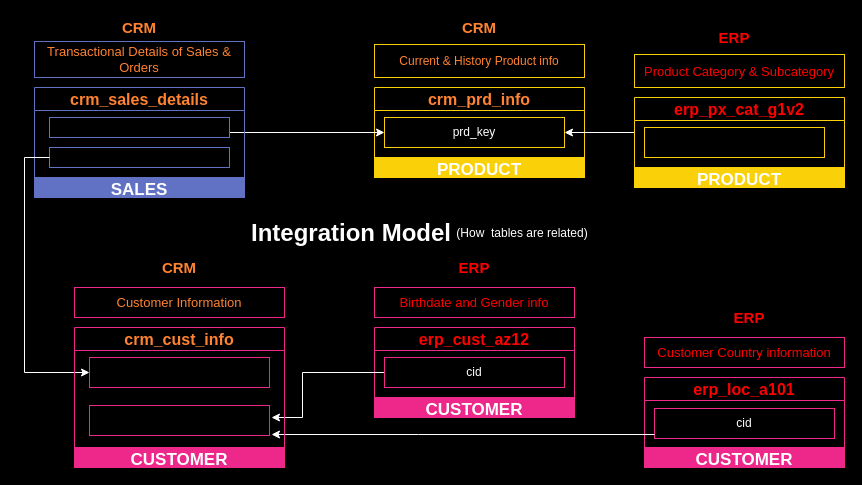
Image size: 862x485. Some labels were removed from this diagram. Here are the shapes that lost their labels. From the top down, the centre of each, then its label:
pixel 139 127: sls_prd_key
pixel 734 142: id
pixel 139 157: sls_cust_id
pixel 179 372: cst_id
pixel 179 420: cst_key
